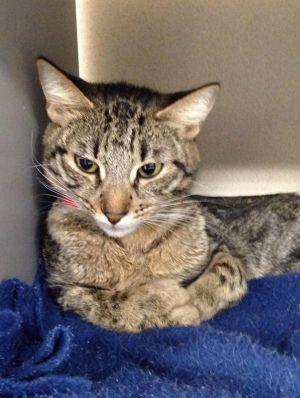bengal: (34, 49, 225, 250)
